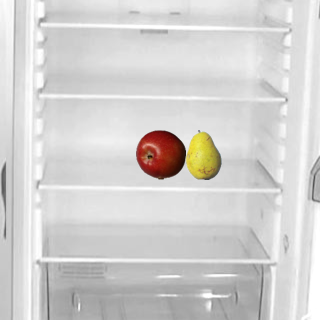Apple Braeburn: (135, 129, 185, 179)
Pear Monster: (178, 129, 228, 179)
